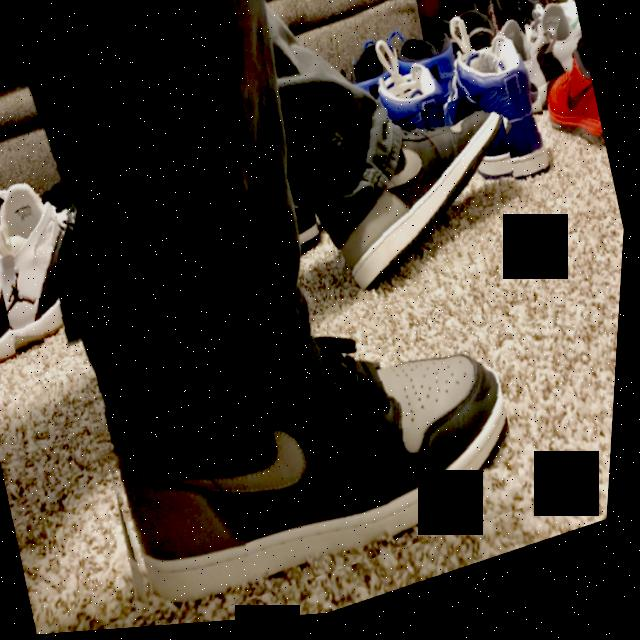shoe: (79, 264, 544, 634), (307, 91, 540, 313), (421, 0, 566, 210), (0, 159, 116, 370), (526, 23, 615, 176), (369, 63, 456, 159), (0, 189, 35, 369)
